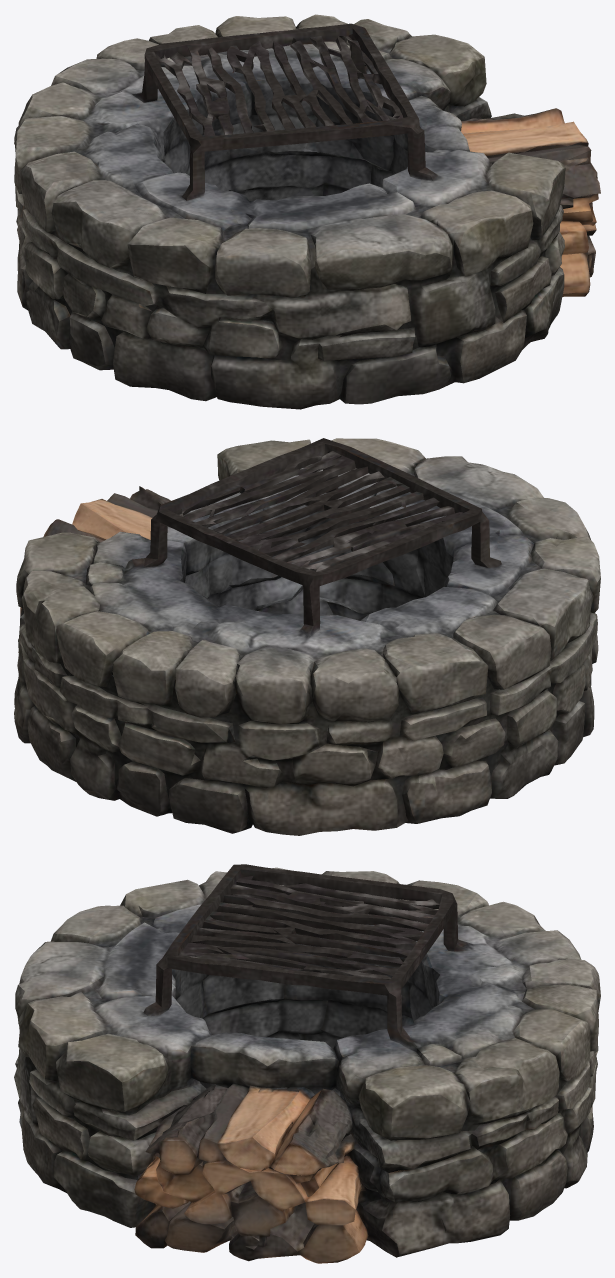
3 views of the same model, one above another, from view 1: azimuth 30°, elevation 25°; view 2: azimuth 150°, elevation 25°; view 3: azimuth 270°, elevation 25° (orthographic).
Visible parts, largest first — view 1: world; view 2: world; view 3: world.
Part boxes in pixels (x1,y1,x2,y2): world: (14,14,600,409); world: (14,438,600,835); world: (14,864,600,1263).
Bounding box in the file's own units: 1.2 × 0.4804 × 1.2.
Materials: 1 (1 with a texture image).
